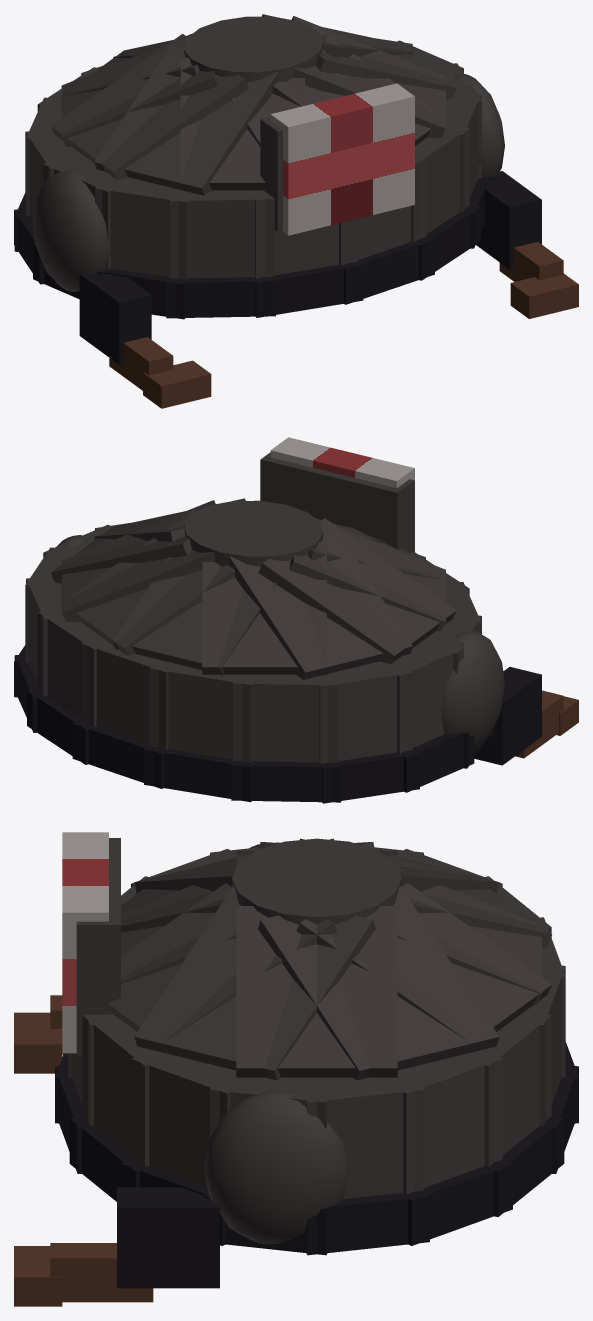
File: CMU3DAU14HeadHelmetRMCMedicWorldCloud.glb
The picture shows the model from 3 angles, top to bottom: view 1: azimuth 30°, elevation 25°; view 2: azimuth 150°, elevation 25°; view 3: azimuth 270°, elevation 25°; orthographic projection. The views are drawn at different scales.
Parts seen in each view (by area): view 1: original red corpsman cross, joined roof facet 07, joined roof facet 06, continuous joined lower shell 10, joined center crown cap, continuous joined lower shell 09, left joined side guard, left front strap anchor, continuous joined lower shell 13, right front strap anchor, continuous joined lower shell 11, joined roof facet 11 (+28 smaller); view 2: joined roof facet 05, corpsman brow detail backing, joined roof facet 06, continuous joined lower shell 05, continuous joined lower shell 04, continuous joined lower shell 06, joined center crown cap, continuous joined lower shell 03, joined roof facet 04, joined roof facet 01, joined roof facet 02, left joined side guard (+22 smaller); view 3: right joined side guard, joined roof facet 00, joined roof facet 11, joined roof facet 01, joined center crown cap, continuous joined lower shell 01, right front strap anchor, continuous joined lower shell 00, continuous joined lower shell 14, joined roof facet 02, continuous joined lower shell 02, continuous joined lower shell 13 (+25 smaller).
Boxes of the visible parts, box(x1,y1,x2,y2) form: original red corpsman cross: box(270, 83, 414, 235); joined roof facet 07: box(94, 46, 278, 195); joined roof facet 06: box(51, 33, 248, 179); continuous joined lower shell 10: box(169, 188, 274, 278); joined center crown cap: box(184, 16, 323, 82); continuous joined lower shell 09: box(95, 174, 194, 279); left joined side guard: box(32, 169, 111, 291); left front strap anchor: box(79, 273, 151, 364); continuous joined lower shell 13: box(411, 121, 469, 242); right front strap anchor: box(476, 171, 541, 269); continuous joined lower shell 11: box(246, 190, 357, 278); joined roof facet 11: box(291, 16, 445, 137); joined roof facet 05: box(228, 530, 412, 679); corpsman brow detail backing: box(260, 452, 414, 553); joined roof facet 06: box(258, 518, 456, 664); continuous joined lower shell 05: box(233, 671, 338, 762); continuous joined lower shell 04: box(149, 665, 259, 762); continuous joined lower shell 06: box(319, 658, 412, 763); joined center crown cap: box(184, 500, 323, 566); continuous joined lower shell 03: box(81, 635, 180, 749); joined roof facet 04: box(202, 542, 326, 674); joined roof facet 01: box(61, 500, 215, 621); joined roof facet 02: box(63, 510, 234, 655); left joined side guard: box(441, 630, 504, 748); right joined side guard: box(204, 1090, 348, 1244); joined roof facet 00: box(236, 906, 397, 1077); joined roof facet 11: box(134, 885, 375, 1080); joined roof facet 01: box(258, 885, 499, 1080); joined center crown cap: box(232, 838, 401, 924); continuous joined lower shell 01: box(376, 1050, 502, 1194); right front strap anchor: box(117, 1187, 219, 1288); continuous joined lower shell 00: box(293, 1067, 423, 1199); continuous joined lower shell 14: box(131, 1052, 258, 1186); joined roof facet 02: box(296, 883, 551, 1053); continuous joined lower shell 02: box(451, 1010, 551, 1166); continuous joined lower shell 13: box(82, 1014, 182, 1166).
Size of the model in its own units: 0.334 by 0.165 by 0.2797.
4 materials, 1 textured.
